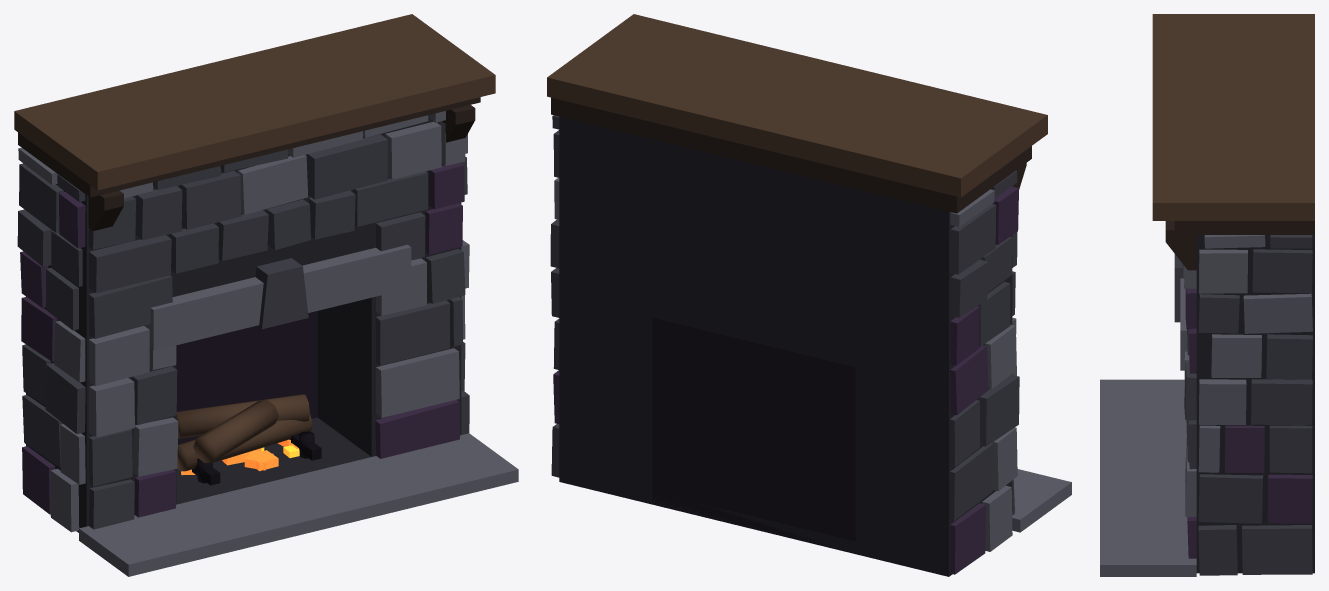
The model's file is fireplace.glb.
3 views of the same model, side by side, from view 1: azimuth 30°, elevation 25°; view 2: azimuth 150°, elevation 25°; view 3: azimuth 270°, elevation 25° (orthographic). The views are drawn at different scales.
Visible parts, largest first — view 1: fireplace; view 2: fireplace; view 3: fireplace.
Part boxes in pixels (x1,y1,x2,y2): fireplace: (14,14,518,576); fireplace: (547,14,1071,576); fireplace: (1100,14,1314,576).
Size of the model in its own units: 1.02 by 0.945 by 0.49.
